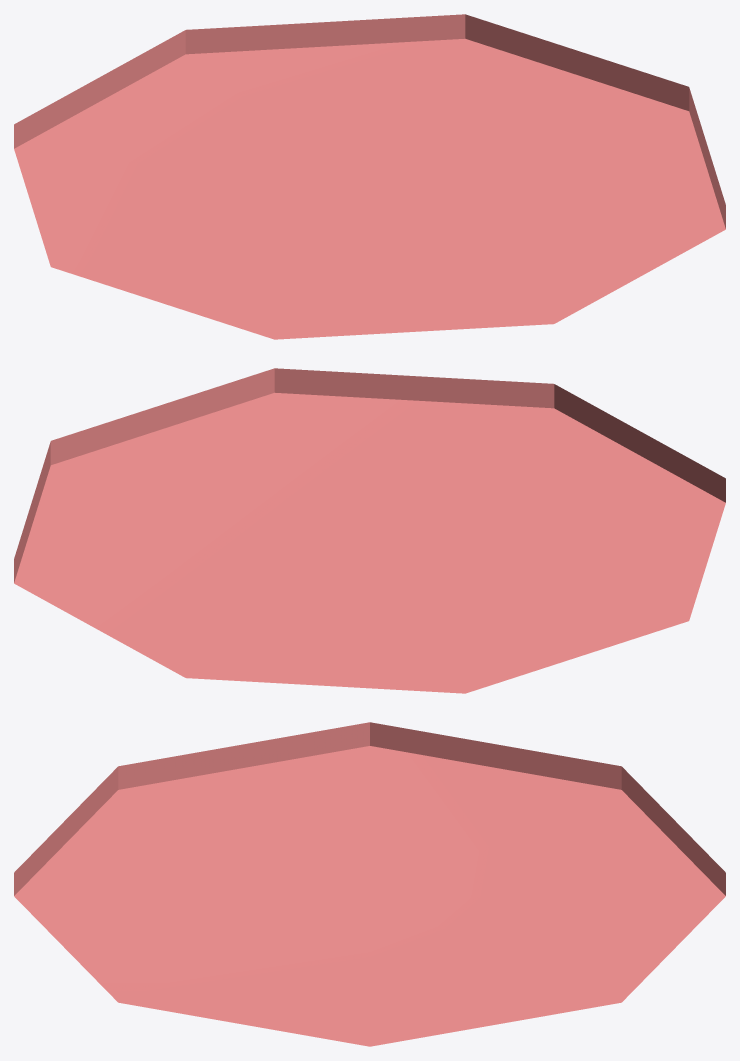
File: entity430290.gltf
The picture shows the model from 3 angles, top to bottom: view 1: azimuth 30°, elevation 25°; view 2: azimuth 150°, elevation 25°; view 3: azimuth 270°, elevation 25°; orthographic projection. The views are drawn at different scales.
Visible parts, largest first — view 1: node_pCylinder281; view 2: node_pCylinder281; view 3: node_pCylinder281.
Boxes of the visible parts, x1,y1,x2,y2 form: node_pCylinder281: [14, 14, 725, 339]; node_pCylinder281: [14, 368, 725, 693]; node_pCylinder281: [14, 722, 725, 1046].
Size of the model in its own units: 4.06 by 0.1773 by 4.06.
